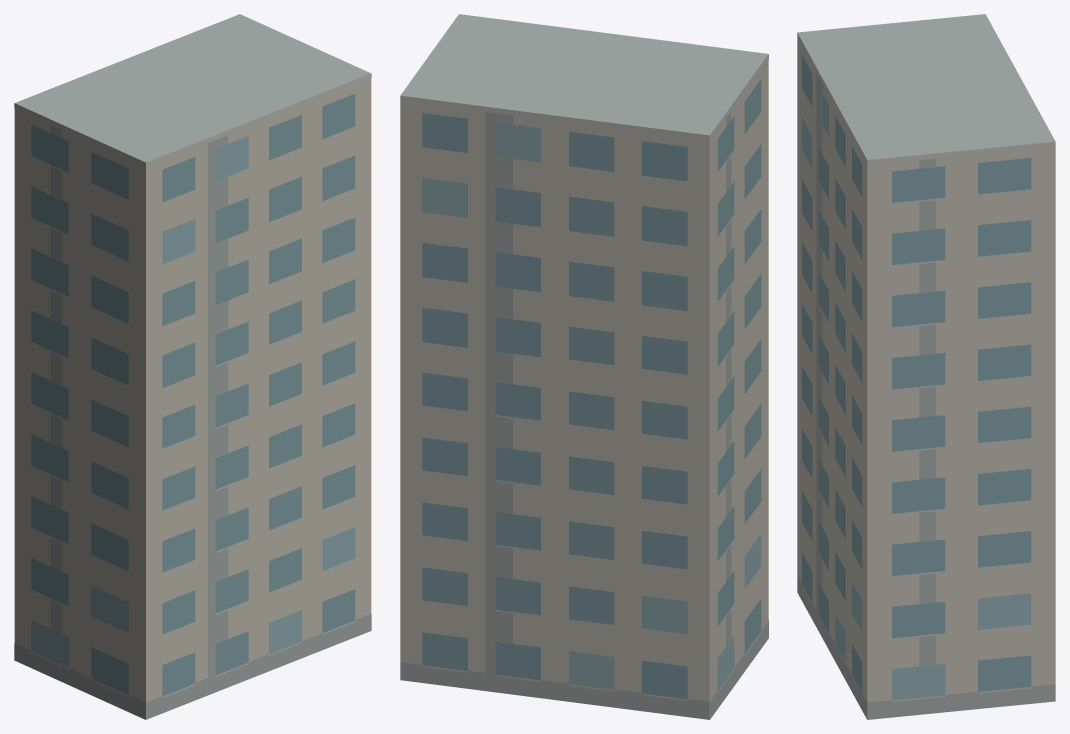
File: residential-5b253e73-f205-46d0-80de-15d4a3558208.glb
The picture shows the model from 3 angles, left to right: view 1: azimuth 30°, elevation 25°; view 2: azimuth 150°, elevation 25°; view 3: azimuth 270°, elevation 25°; orthographic projection. The views are drawn at different scales.
Parts seen in each view (by area): view 1: residential-5b253e73-f205-46d0-80de-15d4a3558208.tmp; view 2: residential-5b253e73-f205-46d0-80de-15d4a3558208.tmp; view 3: residential-5b253e73-f205-46d0-80de-15d4a3558208.tmp.
Part boxes in pixels (left/top/right/bottom): residential-5b253e73-f205-46d0-80de-15d4a3558208.tmp: left=14, top=14, right=371, bottom=719; residential-5b253e73-f205-46d0-80de-15d4a3558208.tmp: left=400, top=14, right=768, bottom=719; residential-5b253e73-f205-46d0-80de-15d4a3558208.tmp: left=797, top=14, right=1055, bottom=719.
Size of the model in its own units: 14.56 by 26 by 10.89.
